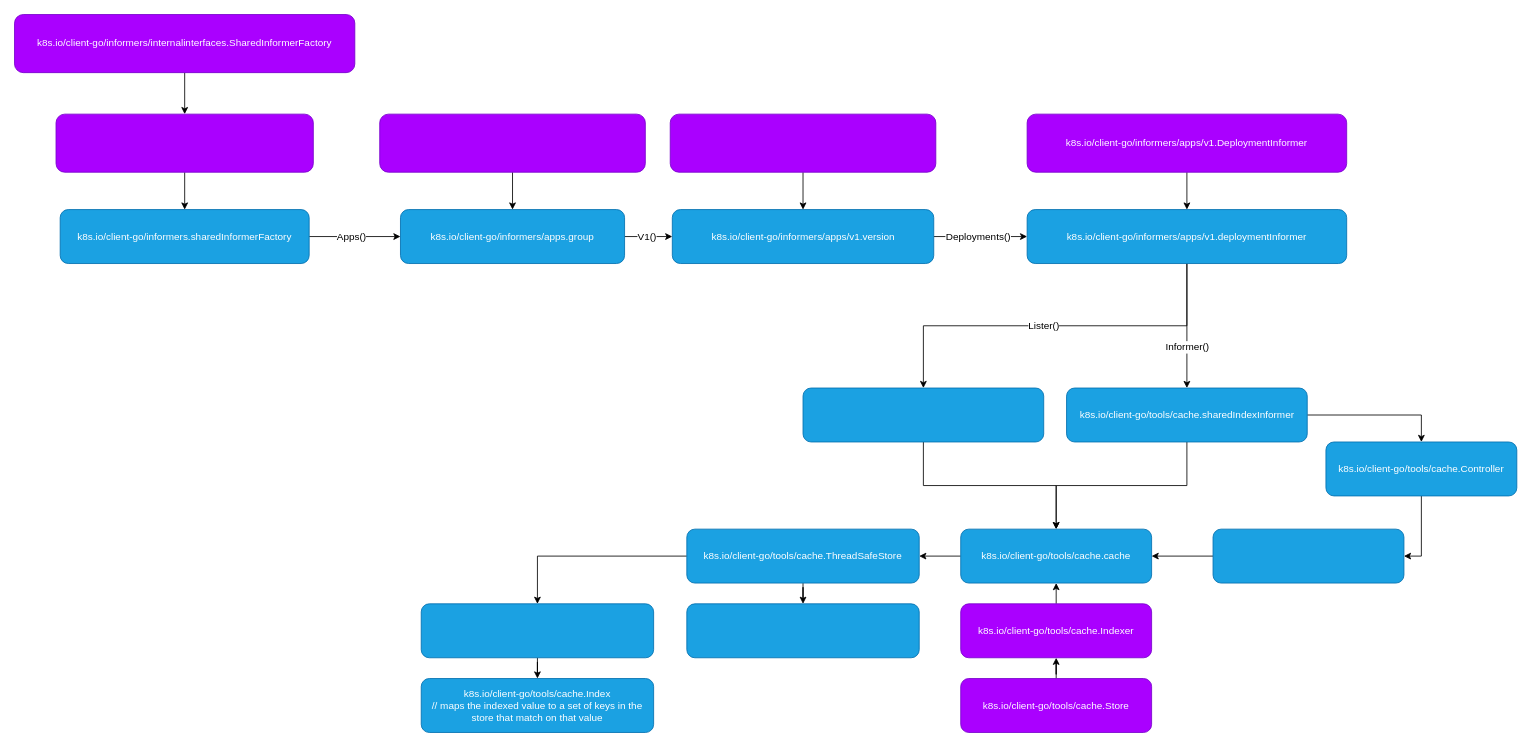
Image size: 1531x747. Some labels were removed from this diagram. The shapes that lost their labels are listed below. From the top down, each one's centre as x and y in pixels, then its label:
At point 184,142: "k8s.io/client-go/informers.SharedInformerFactory 创建各类API资源对象的Informer工厂".
At point 512,142: "k8s.io/client-go/informers/apps.Interface".
At point 802,142: "k8s.io/client-go/informers/apps/v1.Interface".
At point 923,414: "k8s.io/client-go/listers/apps/v1.deploymentLister".
At point 1308,555: "k8s.io/client-go/tools/cache.DeltaFIFO".
At point 537,630: "k8s.io/client-go/tools/cache.Indices // map a name to an Index".
At point 802,630: "k8s.io/client-go/tools/cache.Indexers // map a name to a IndexFunc".
